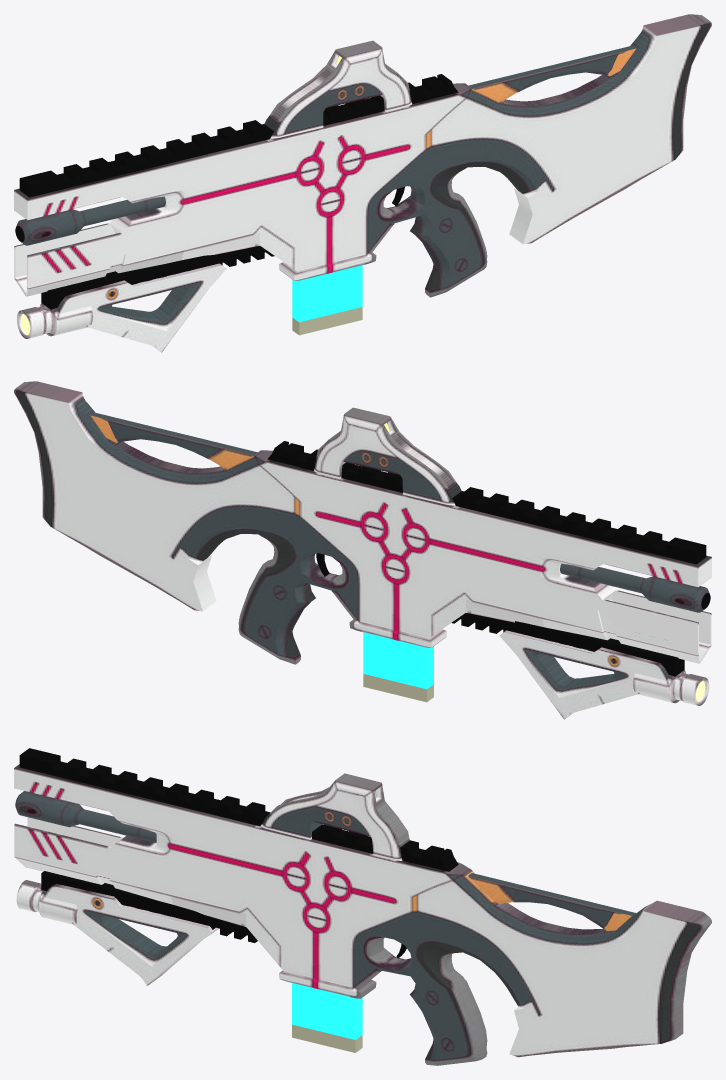
File: mememegun.glb
The picture shows the model from 3 angles, top to bottom: view 1: azimuth 30°, elevation 25°; view 2: azimuth 150°, elevation 25°; view 3: azimuth 330°, elevation 25°; orthographic projection.
Parts seen in each view (by area): view 1: PL.X1 body.001, PLX1 linterna.001, PLX1 riel 1.001, PLX1 mira.001, PLX1 clip mun.001, PLX1 Riel 2.001, Cylinder.001, Cube.002; view 2: PL.X1 body.001, PLX1 linterna.001, PLX1 riel 1.001, PLX1 mira.001, PLX1 clip mun.001, PLX1 Riel 2.001, Cylinder.001, Cube.002; view 3: PL.X1 body.001, PLX1 linterna.001, PLX1 riel 1.001, PLX1 mira.001, PLX1 clip mun.001, Cube.002, Cylinder.001, PLX1 Riel 2.001.
Boxes of the visible parts, x1,y1,x2,y2 form: PL.X1 body.001: [14, 14, 711, 297]; PLX1 linterna.001: [16, 263, 226, 352]; PLX1 riel 1.001: [19, 74, 458, 197]; PLX1 mira.001: [264, 40, 412, 138]; PLX1 clip mun.001: [292, 265, 362, 335]; PLX1 Riel 2.001: [41, 246, 274, 309]; Cylinder.001: [15, 196, 165, 245]; Cube.002: [469, 45, 636, 101]; PL.X1 body.001: [14, 381, 711, 664]; PLX1 linterna.001: [499, 630, 709, 719]; PLX1 riel 1.001: [267, 441, 706, 564]; PLX1 mira.001: [314, 407, 461, 505]; PLX1 clip mun.001: [363, 632, 433, 702]; PLX1 Riel 2.001: [451, 613, 684, 676]; Cylinder.001: [560, 563, 710, 612]; Cube.002: [89, 412, 257, 468]; PL.X1 body.001: [14, 764, 711, 1065]; PLX1 linterna.001: [16, 880, 218, 985]; PLX1 riel 1.001: [19, 748, 458, 871]; PLX1 mira.001: [260, 773, 409, 860]; PLX1 clip mun.001: [292, 983, 362, 1052]; Cube.002: [468, 873, 636, 931]; Cylinder.001: [15, 791, 156, 842]; PLX1 Riel 2.001: [41, 871, 257, 942].
Size of the model in its own units: 8.06 by 3.01 by 0.361.
12 materials, 6 textured.
